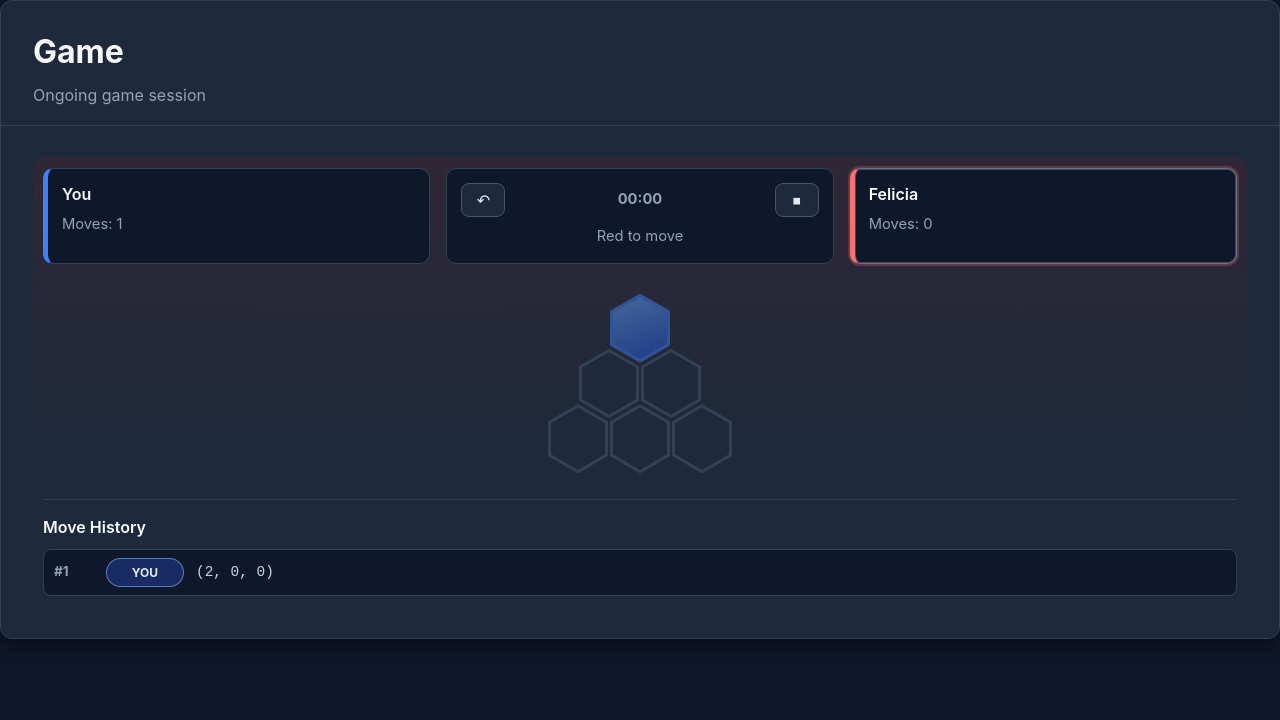
GamePage — undo › undo removes last move from history
Expected: the text "#1" is shown, [54,564,69,580]
Click the button named "undo": (483, 200) [461,183,505,217]
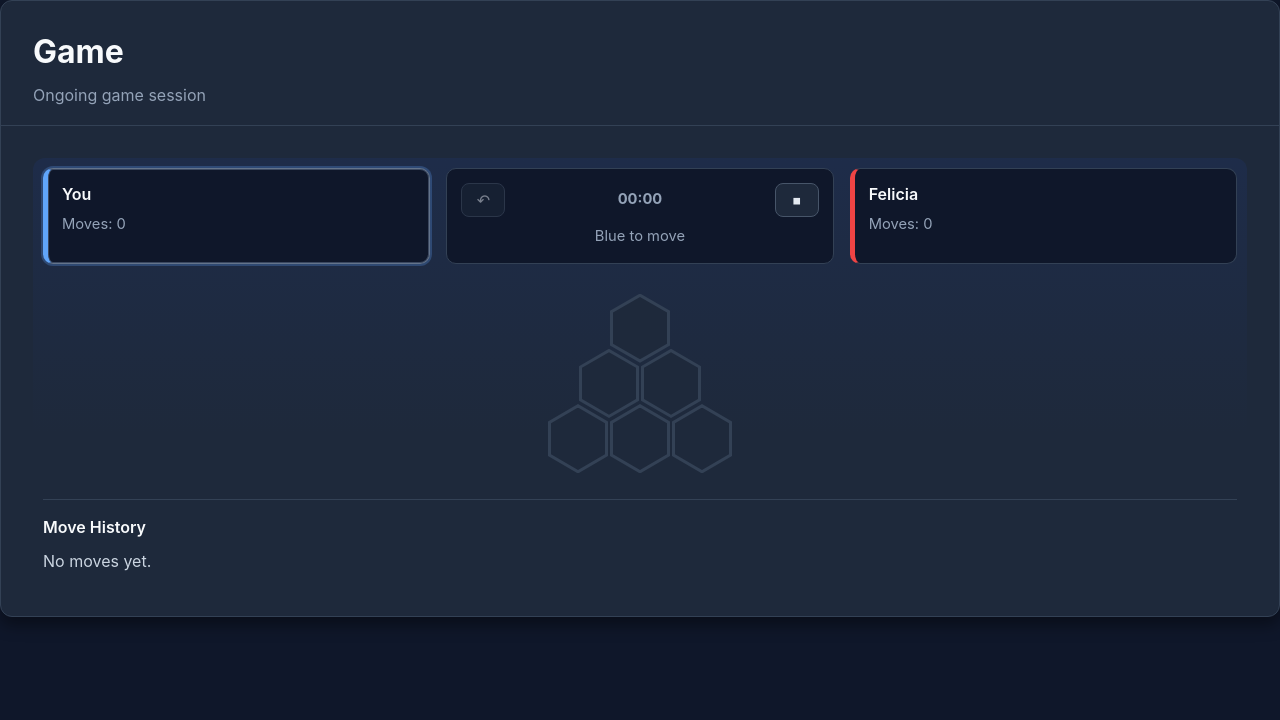
Result: the text "#1" is gone
Result: the text "No moves yet." is shown at [43,551,151,571]
